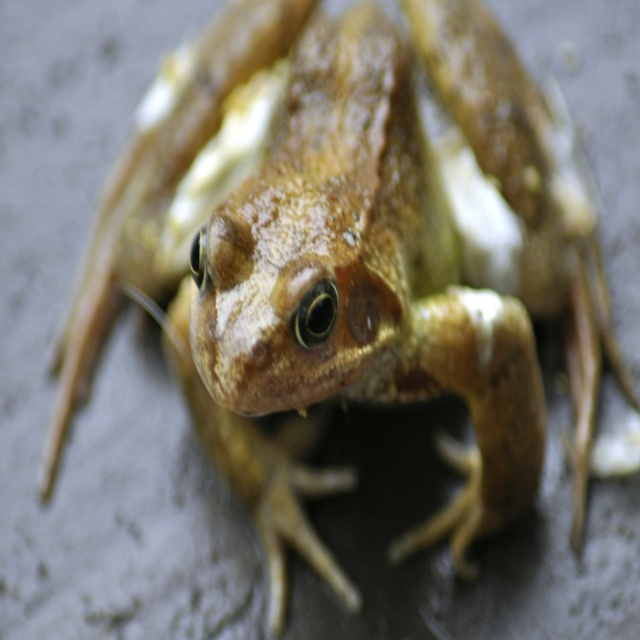Frog: (36, 0, 640, 637)
